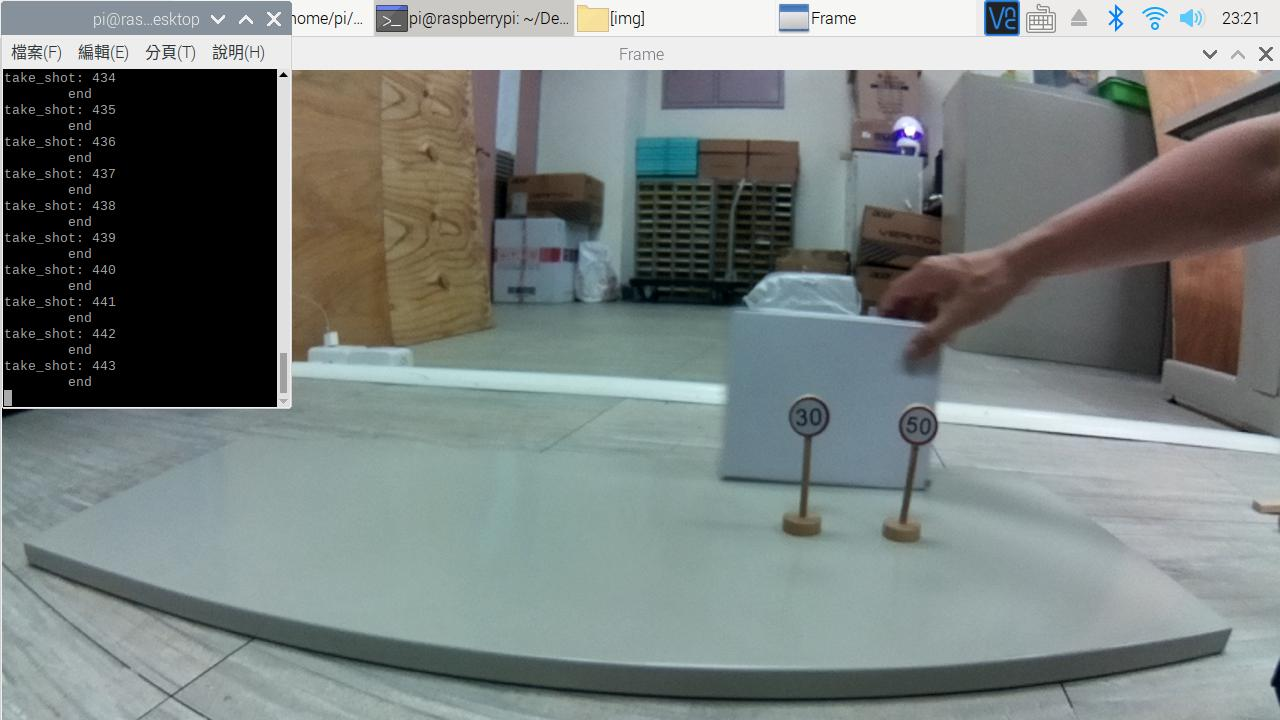Speed30: (773, 387, 838, 447)
Speed50: (887, 393, 945, 455)
